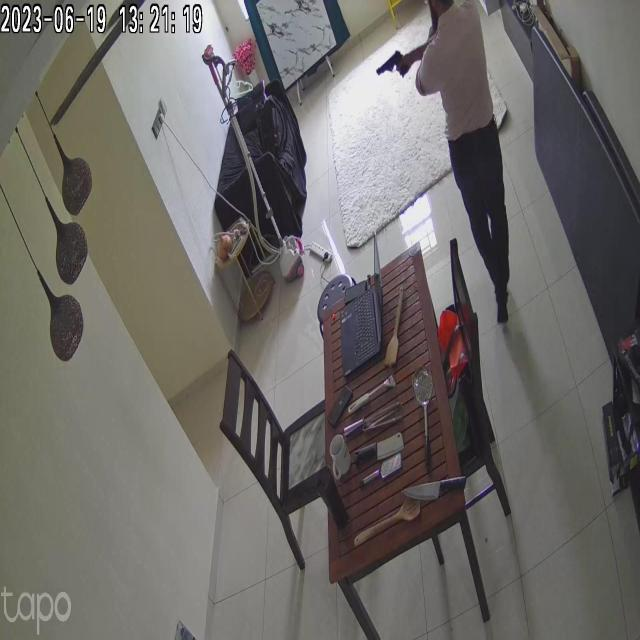Gun: (365, 42, 410, 83)
Knife: (395, 468, 478, 509)
